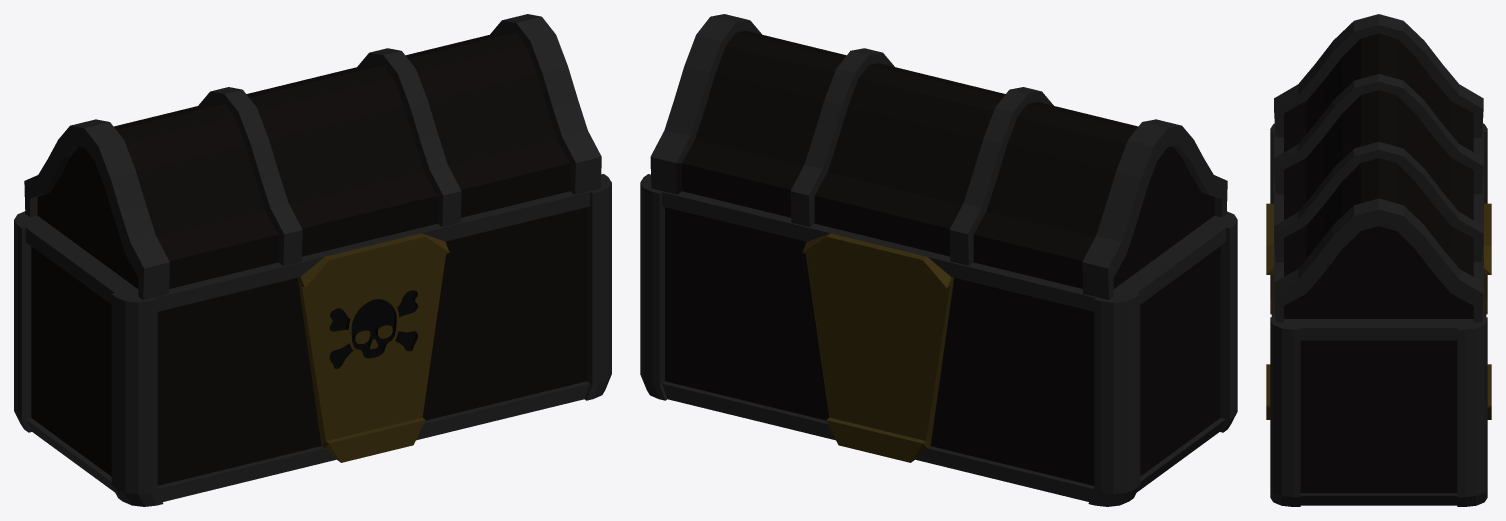
Rendered from TreasureChest.obj.
3 views of the same model, side by side, from view 1: azimuth 30°, elevation 25°; view 2: azimuth 150°, elevation 25°; view 3: azimuth 270°, elevation 25° (orthographic). The views are drawn at different scales.
Parts seen in each view (by area): view 1: TreasureChest_Cube.001, Lid_Cube.002; view 2: TreasureChest_Cube.001, Lid_Cube.002; view 3: Lid_Cube.002, TreasureChest_Cube.001.
Part boxes in pixels (<box>): TreasureChest_Cube.001: <box>14,174,611,506</box>; Lid_Cube.002: <box>24,14,601,300</box>; TreasureChest_Cube.001: <box>640,174,1237,506</box>; Lid_Cube.002: <box>650,14,1227,299</box>; Lid_Cube.002: <box>1274,14,1483,322</box>; TreasureChest_Cube.001: <box>1266,123,1491,506</box>.
Bounding box in the file's own units: 5.01 × 3.25 × 2.27.
